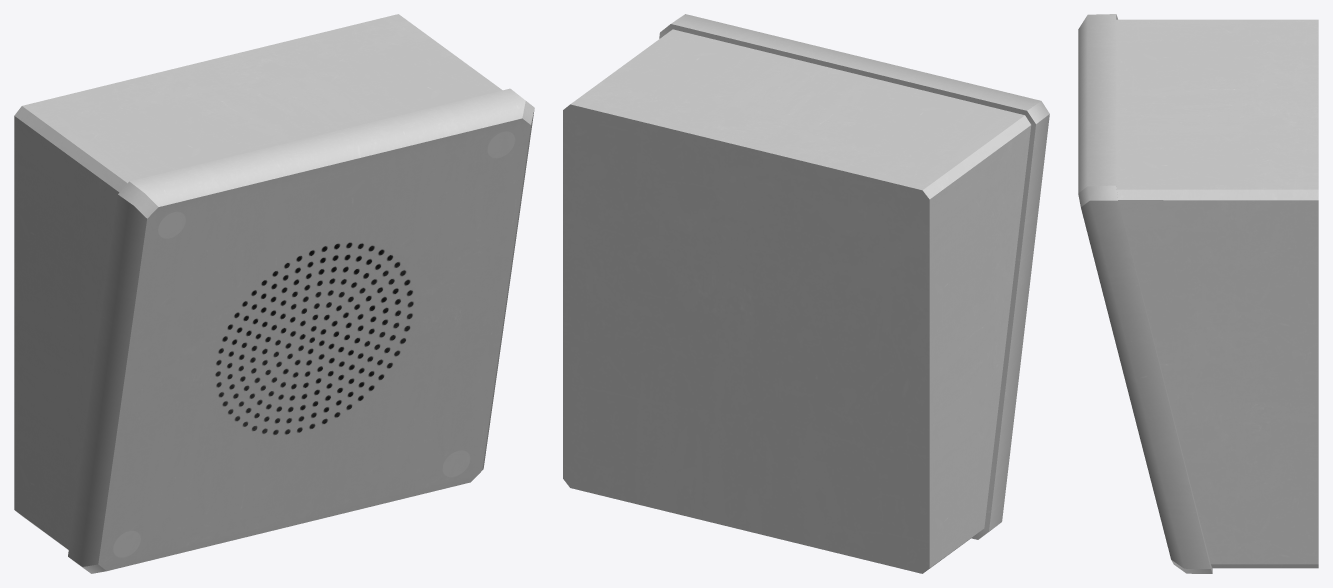
Rendered from IntercomSpeacker.fbx.
The picture shows the model from 3 angles, left to right: view 1: azimuth 30°, elevation 25°; view 2: azimuth 150°, elevation 25°; view 3: azimuth 270°, elevation 25°; orthographic projection. The views are drawn at different scales.
Visible parts, largest first — view 1: IntercomSpeacker; view 2: IntercomSpeacker; view 3: IntercomSpeacker.
Boxes of the visible parts, x1,y1,x2,y2 form: IntercomSpeacker: (14, 14, 534, 573); IntercomSpeacker: (563, 14, 1049, 573); IntercomSpeacker: (1078, 14, 1318, 573).
Size of the model in its own units: 7.27 by 7.27 by 4.08.
